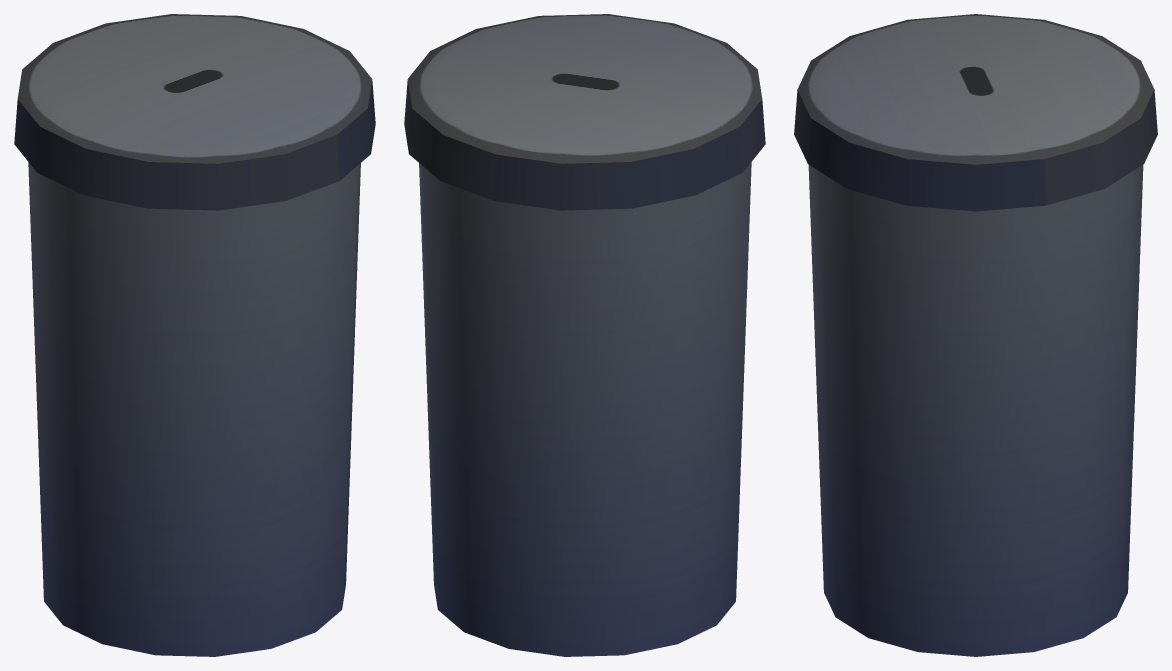
File: TrashCanV2.fbx
3 views of the same model, side by side, from view 1: azimuth 30°, elevation 25°; view 2: azimuth 150°, elevation 25°; view 3: azimuth 270°, elevation 25° (orthographic).
Visible parts, largest first — view 1: Cylinder; view 2: Cylinder; view 3: Cylinder.
Part boxes in pixels (bbox=[...]): Cylinder: bbox=[14, 14, 375, 656]; Cylinder: bbox=[404, 14, 765, 656]; Cylinder: bbox=[794, 14, 1157, 656].
Bounding box in the file's own units: 216 × 335 × 216.
